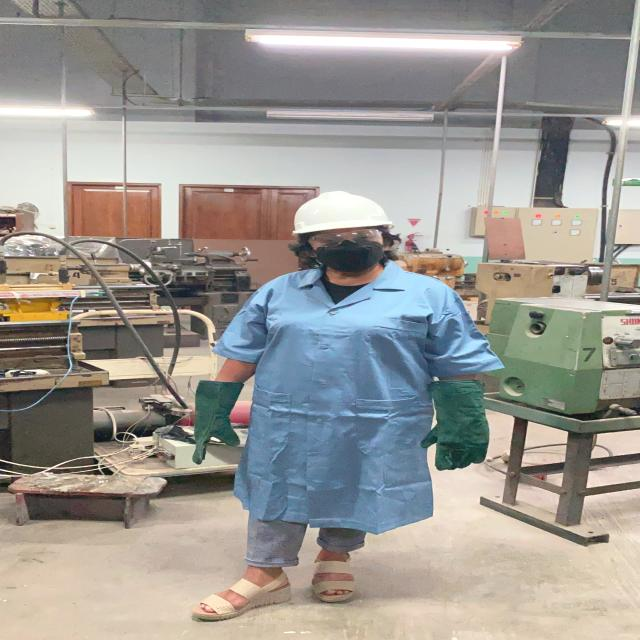face_mask: (302, 227, 393, 272)
glasses: (302, 228, 388, 250)
hand_glove: (170, 400, 257, 468), (413, 415, 502, 472), (545, 446, 548, 451)
head_helmet: (281, 186, 399, 238)
person: (165, 191, 507, 623)
